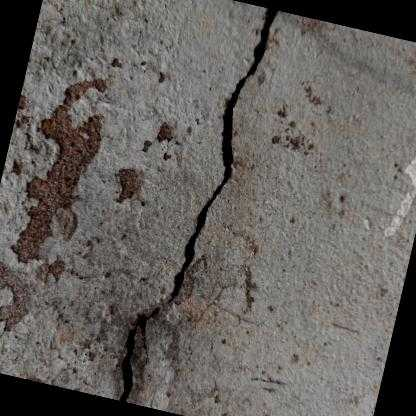crack: (165, 7, 280, 307), (118, 305, 160, 403)
